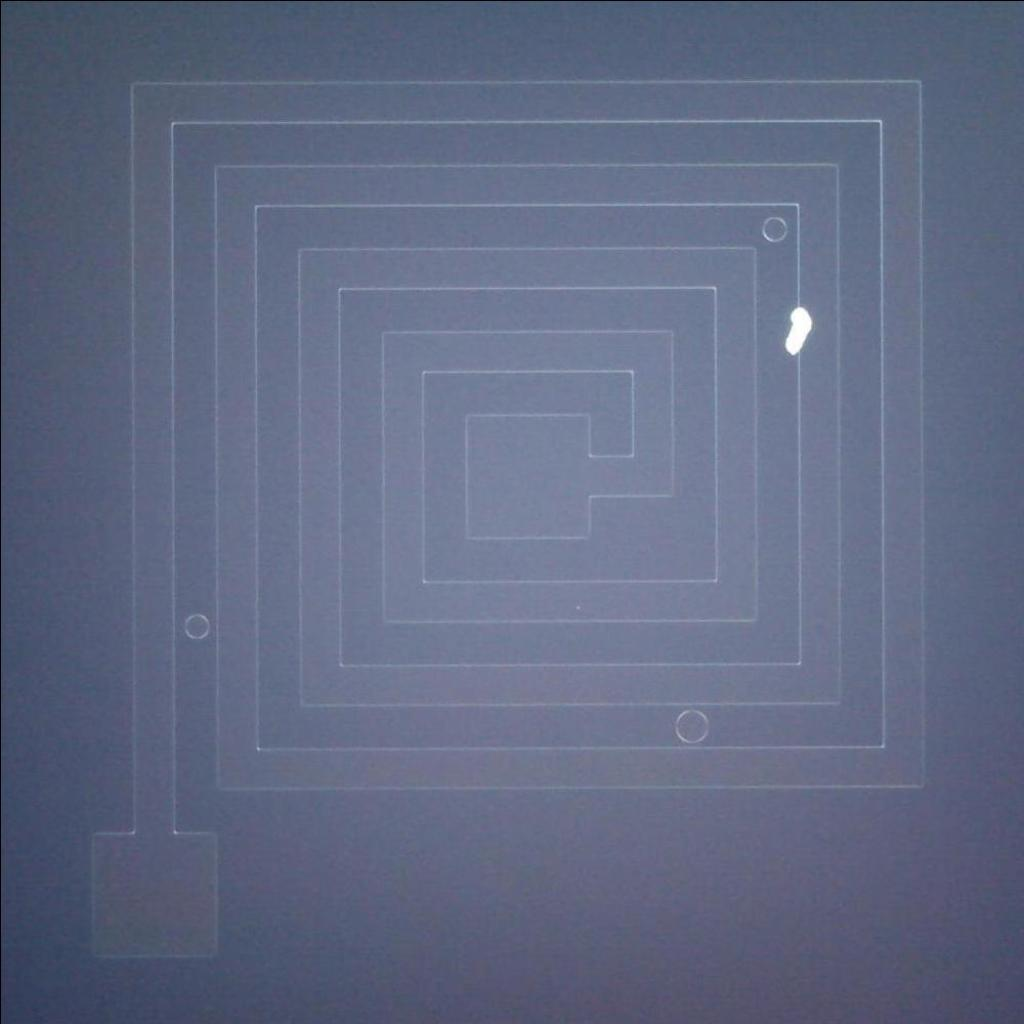circle: (672, 705, 710, 745), (754, 212, 793, 250), (179, 608, 210, 645)
spot: (780, 298, 816, 358)
